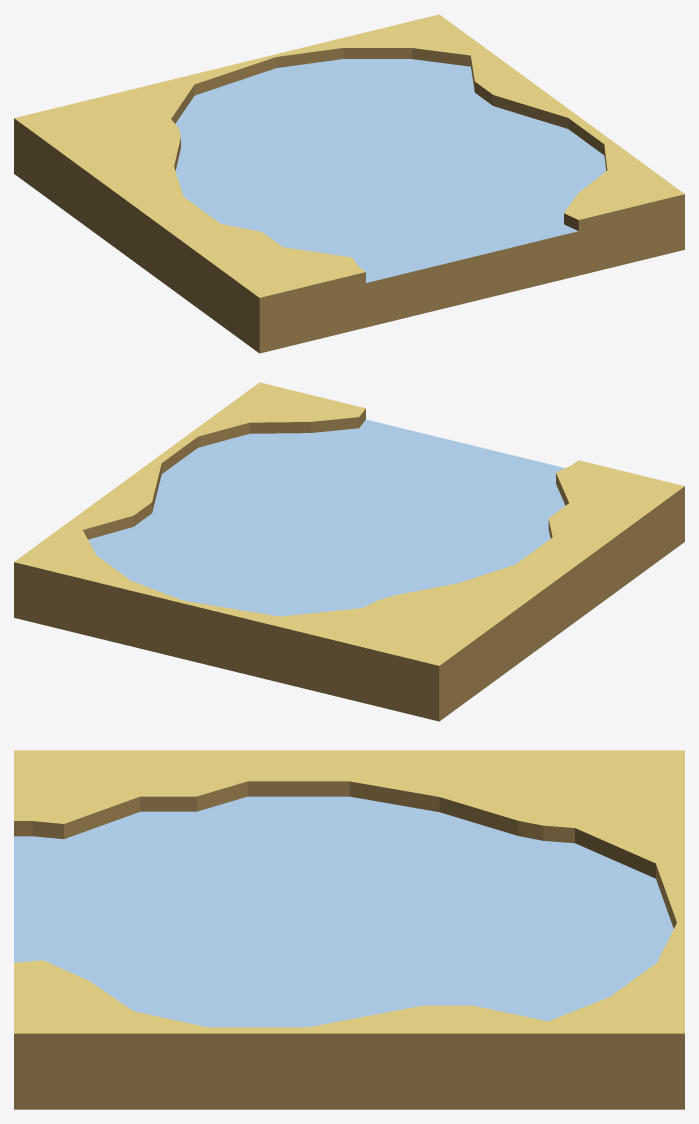
The model's file is Terrain_Tile_Sand_River_End_01.fbx.
3 renders of one model, top to bottom at view 1: azimuth 30°, elevation 25°; view 2: azimuth 150°, elevation 25°; view 3: azimuth 270°, elevation 25°, orthographic. The views are drawn at different scales.
Visible parts, largest first — view 1: Terrain_Tile_Sand_River_End_01; view 2: Terrain_Tile_Sand_River_End_01; view 3: Terrain_Tile_Sand_River_End_01.
Boxes of the visible parts, bbox=[...] form: Terrain_Tile_Sand_River_End_01: bbox=[14, 14, 684, 353]; Terrain_Tile_Sand_River_End_01: bbox=[14, 382, 684, 721]; Terrain_Tile_Sand_River_End_01: bbox=[14, 750, 684, 1109].
Size of the model in its own units: 126 by 15.75 by 126.
